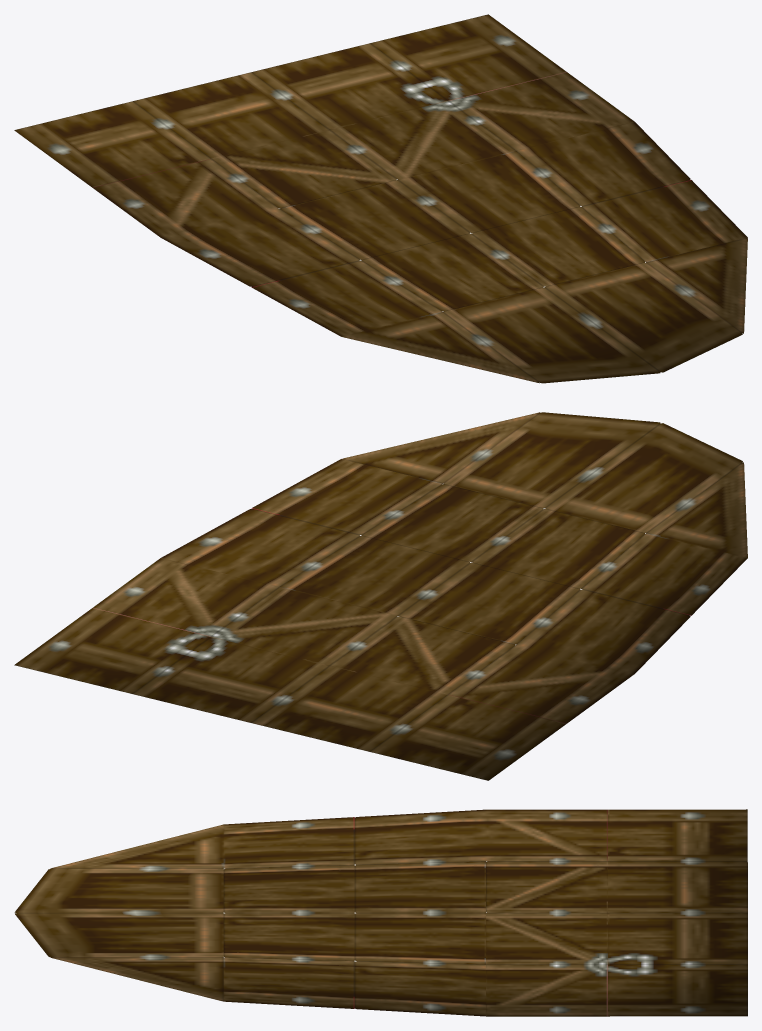
3 views of the same model, one above another, from view 1: azimuth 30°, elevation 25°; view 2: azimuth 150°, elevation 25°; view 3: azimuth 270°, elevation 25° (orthographic). The views are drawn at different scales.
Parts seen in each view (by area): view 1: T1L4M009_0; view 2: T1L4M009_0; view 3: T1L4M009_0.
Boxes of the visible parts, left/top/right/bottom form: T1L4M009_0: left=14, top=14, right=747, bottom=383; T1L4M009_0: left=14, top=412, right=747, bottom=780; T1L4M009_0: left=14, top=809, right=747, bottom=1016.
Size of the model in its own units: 2.8 by 0.000977 by 4.2.
